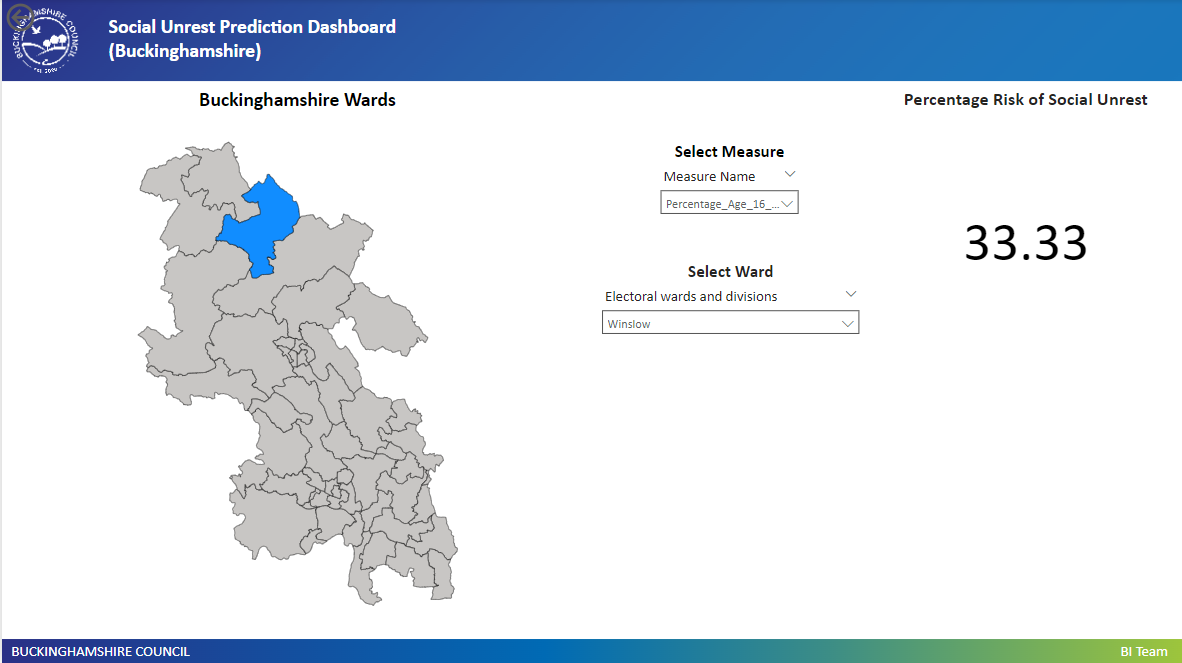

This screenshot's page, from the dashboard's own definition file:
{"tool":"powerbi","page":{"name":"BI teams","canvas":[1280,720],"ordinal":0},"visuals":[{"type":"textbox","box":[110.6,11.4,396.9,73.2],"z":0},{"type":"image","box":[3,4.4,88.6,80.5],"z":1000},{"type":"actionButton","box":[0,0,100,40],"z":2000},{"type":"card","title":"Percentage Risk of Social Unrest","fields":{"Values":["Social Unrest (Buckinghamshire).Social_Unrest_Percentage"]},"box":[939.4,95.9,340.3,297.2],"z":3000},{"type":"slicer","title":"Select Measure","fields":{"Values":["Measure_Selector.Measure Name"]},"box":[704.6,153.4,169.4,99.1],"z":4000},{"type":"shapeMap","title":"Buckinghamshire Wards","fields":{"Category":["Social Unrest (Buckinghamshire).Electoral wards and divisions"],"Value":["Social Unrest (Buckinghamshire).Selected_Measure"]},"box":[0,95.9,640.7,594.3],"z":5000},{"type":"slicer","title":"Select Ward","fields":{"Values":["Social Unrest (Buckinghamshire).Electoral wards and divisions"]},"box":[640.7,282.8,298.8,110.2],"z":6000}]}

Visuals, with their boxes in screenshot pixels (x1, y1, x2, y2), scaled from the page's 1280x720 canvas onto the 1182x663 screenshot:
textbox: <bbox>102, 10, 469, 78</bbox>
image: <bbox>3, 4, 85, 78</bbox>
actionButton: <bbox>0, 0, 92, 37</bbox>
"Percentage Risk of Social Unrest" card: <bbox>867, 88, 1181, 362</bbox>
"Select Measure" slicer: <bbox>651, 141, 807, 233</bbox>
"Buckinghamshire Wards" shapeMap: <bbox>0, 88, 592, 636</bbox>
"Select Ward" slicer: <bbox>592, 260, 868, 362</bbox>
